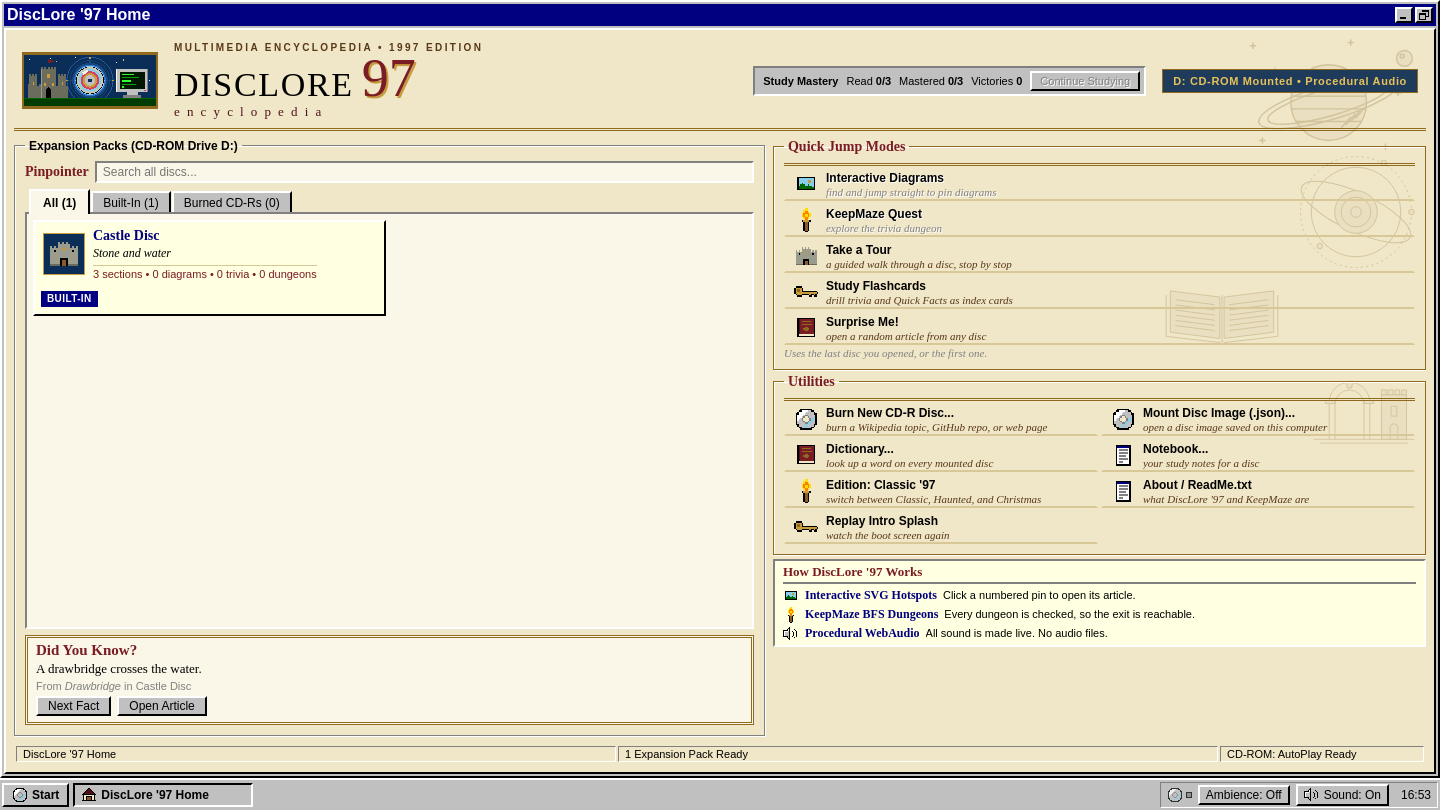
Test: Dictionary › looks the word up on /api/define and shows a plain-text definition
Click the text "Castle Disc" at (126,236), box [93,228,160,244]
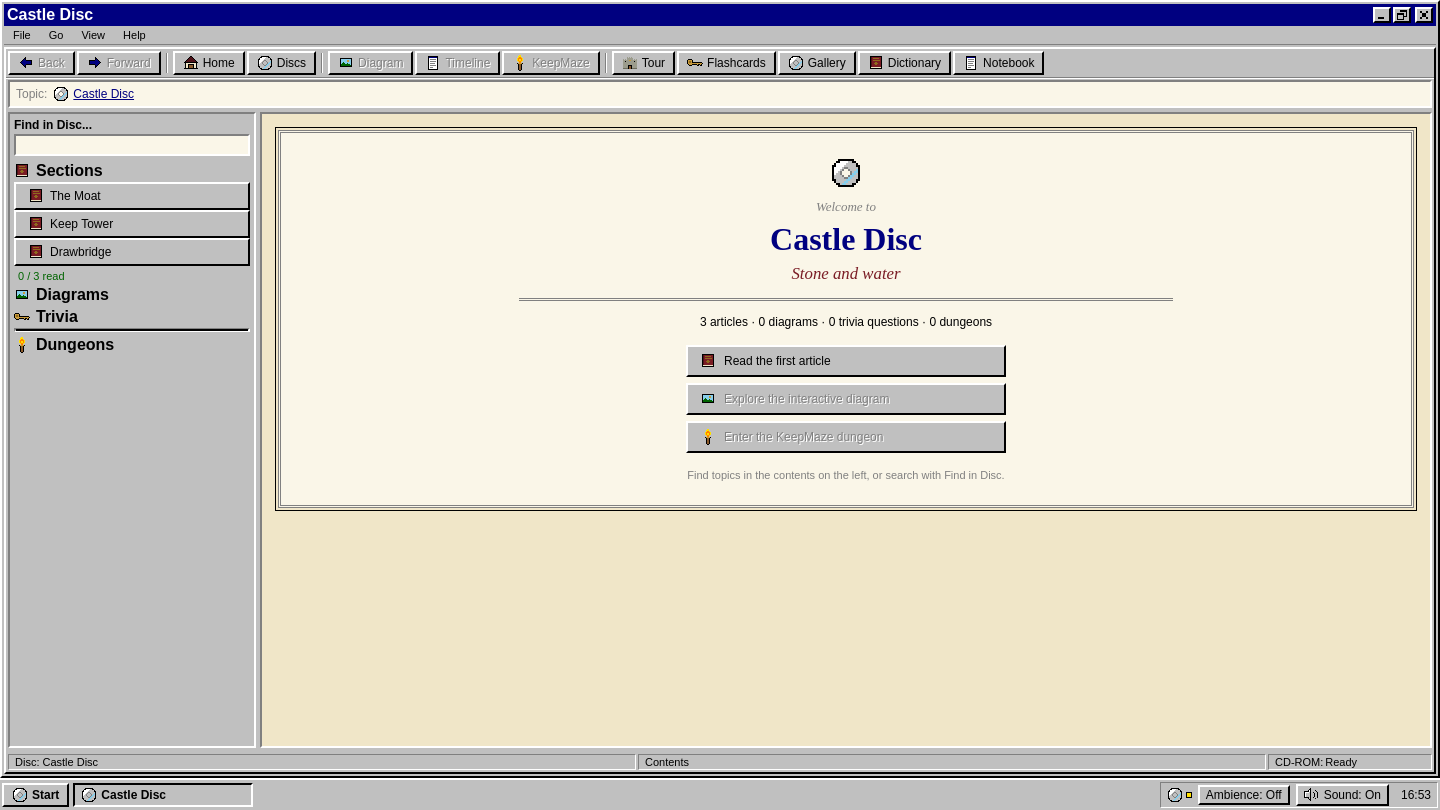
Click the button "Dictionary" at (904,63), box [858,51,951,75]
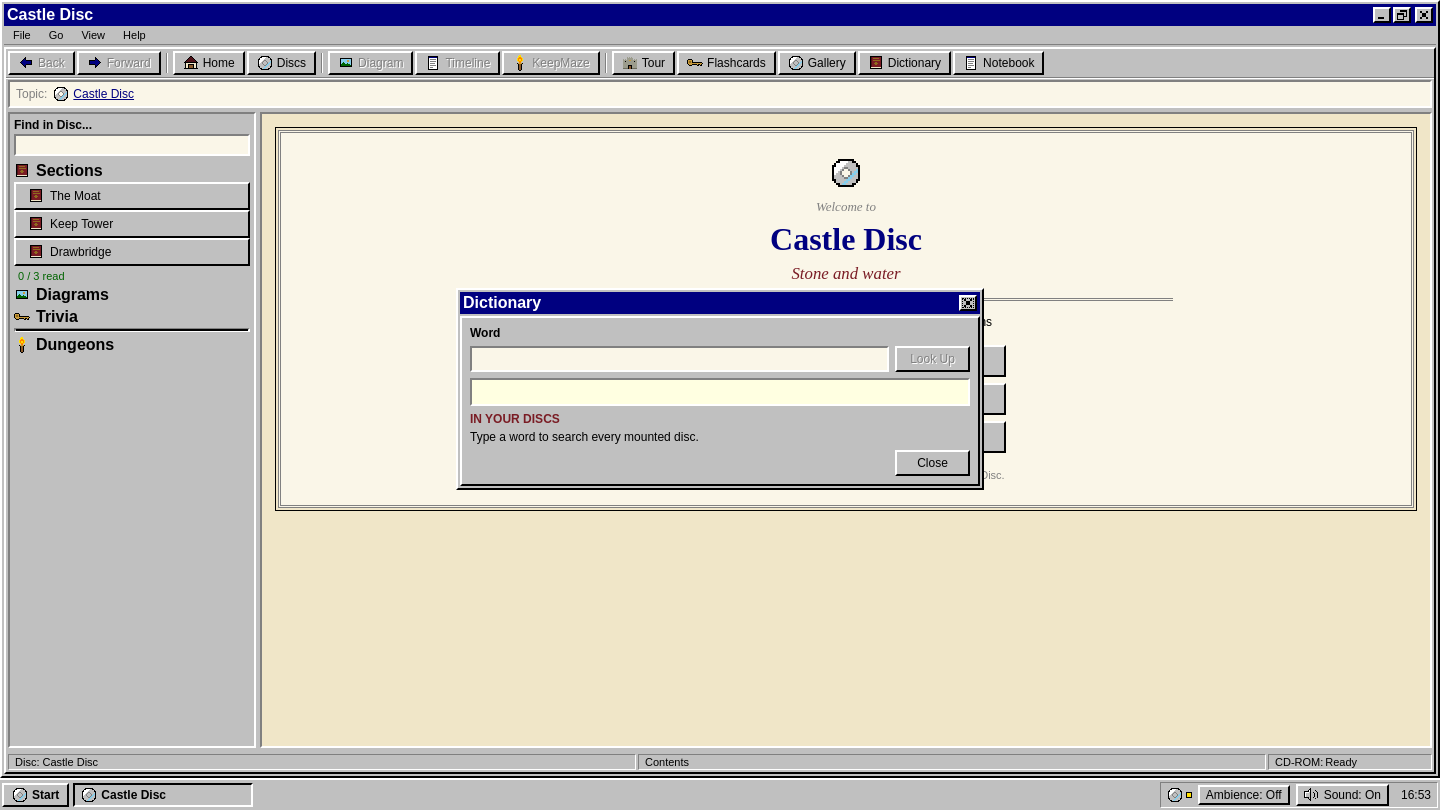
Type "moat" into the field labelled "Word" at (680,359), box [470,346,889,372]
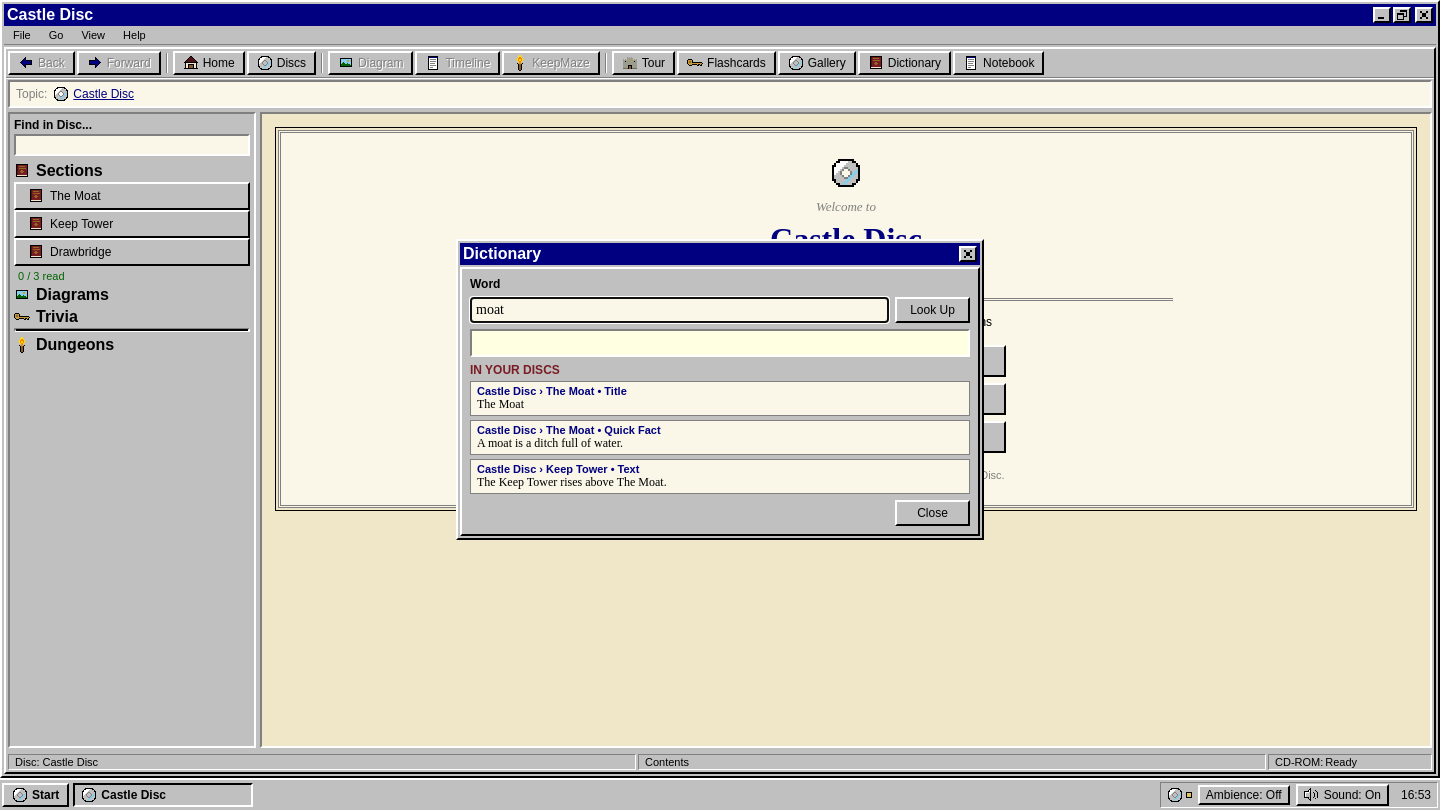
Click the button "Look Up" at (932,310), box [895,296,970,322]
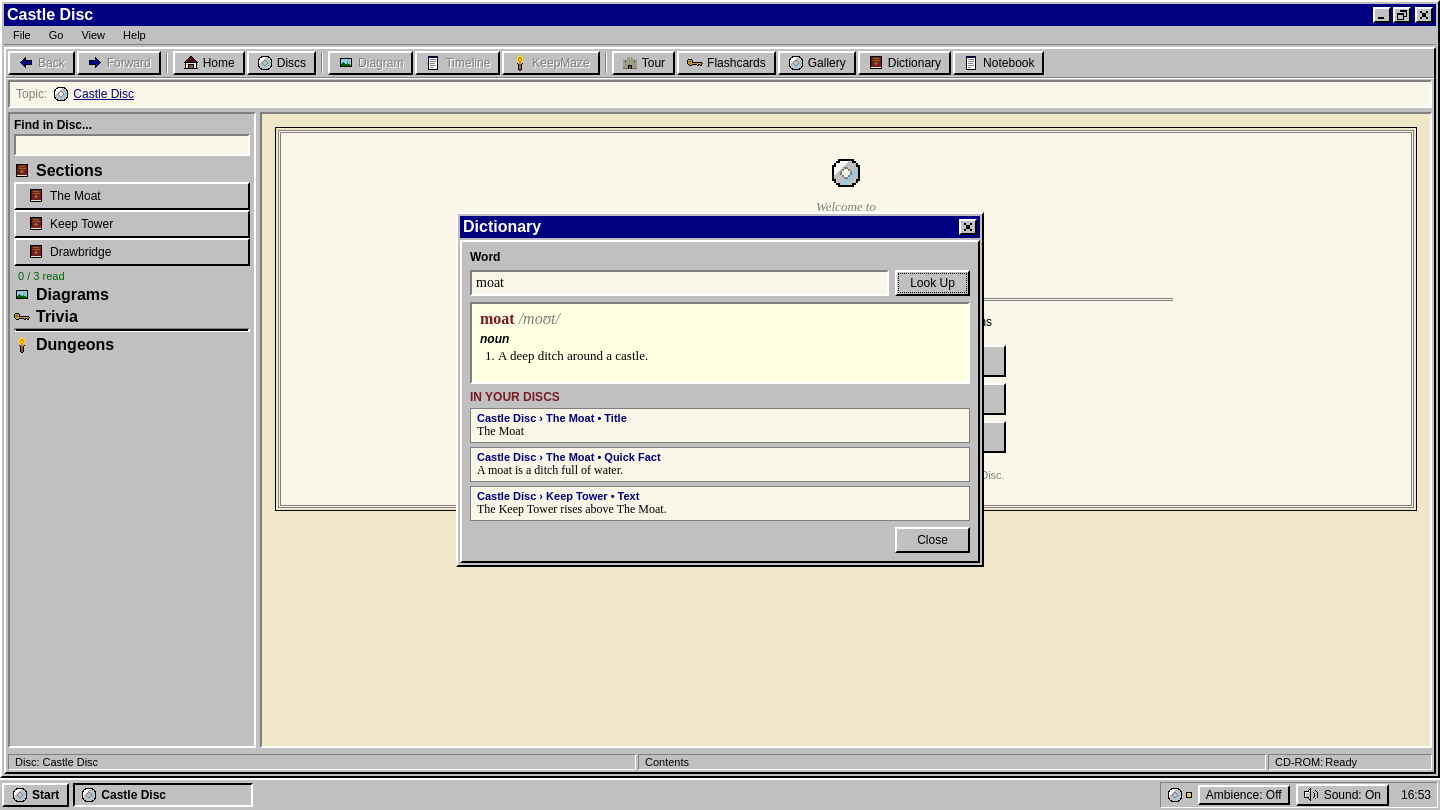
expect the list item "A deep ditch around a castle." is shown: met, box [498,348,648,362]
expect the text "noun" is shown: met, box [480,332,509,346]
